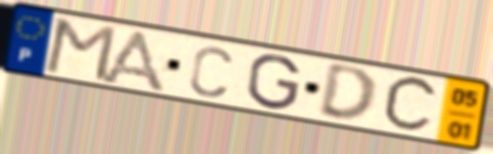A: (95, 28, 170, 96)
C: (379, 74, 442, 135), (187, 43, 235, 100)
D: (315, 63, 380, 125)
G: (244, 53, 303, 112)
M: (41, 16, 120, 85)
